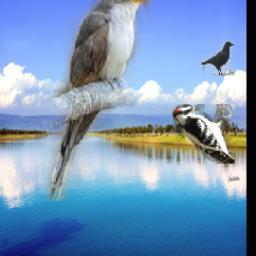Crow: (200, 42, 234, 77)
Cuckoo: (48, 0, 152, 202)
Woodpecker: (173, 104, 236, 164)
